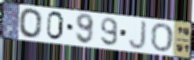0: (46, 11, 65, 42)
9: (74, 12, 95, 46), (100, 17, 119, 47)
J: (128, 20, 148, 51)
O: (18, 7, 44, 40), (150, 23, 174, 53)
